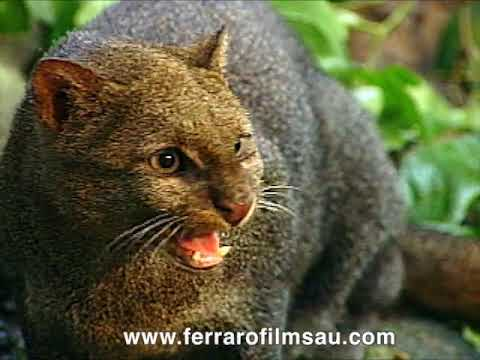Jaguarundi: (12, 12, 432, 317)
